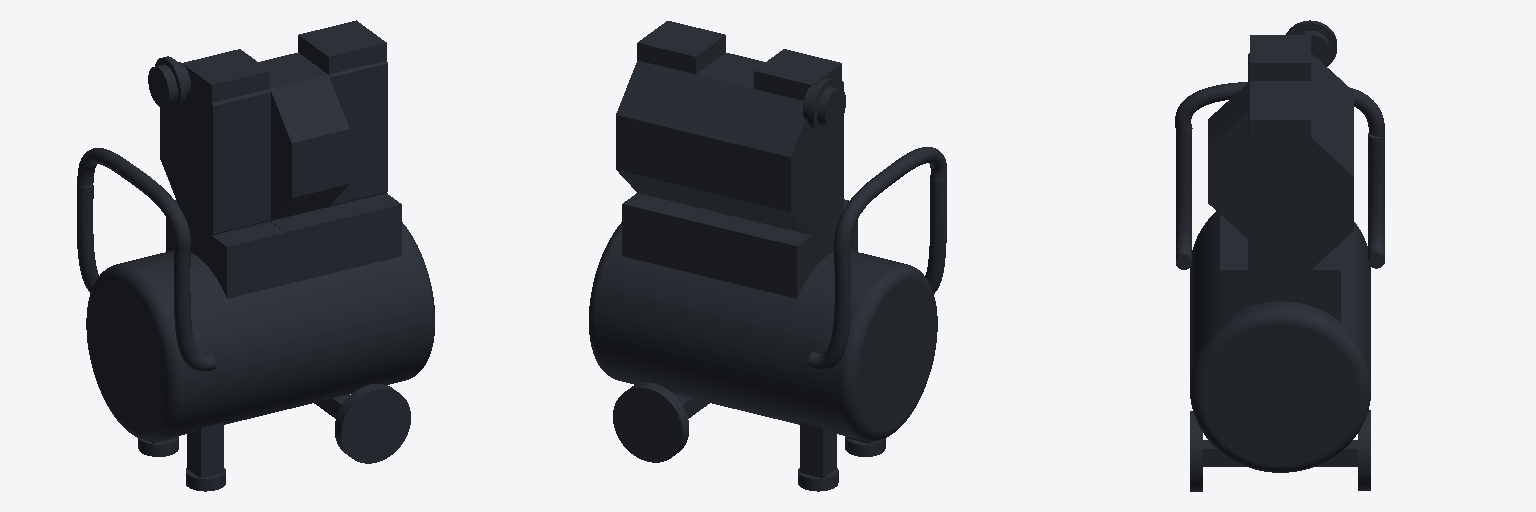
URDF robot description (air_compressor):
<?xml version="1.0"?>
<!--
  air_compressor.urdf
  바탕화면 air_compressor.step → 변환. 단일 바디(링크 1개).
  - 원본 STEP 단위 mm → 원본 BREP 스케일 변환이 일부 트림 커브에서 실패해
    (Geom_TrimmedCurve::parameters out of range) mm 단위로 먼저 테셀레이션 후
    정점만 m로 스케일하는 방식으로 우회 변환.
  - 원점: 모델 자체 기준점. XY는 거의 중심 정렬(x:-0.002~0.460, y:-0.157~0.155),
    Z는 바닥/중심 어디에도 안 맞음(z:-0.166~0.358)
  - 치수 0.4615 x 0.3126 x 0.5248 m (삼각형 8,670면)
  - 시각(visual): 원본 메쉬. 충돌(collision): 박스로 단순화(치수=메쉬 바운딩박스)
  - 정적 소품(스탠드 내부 거치)이므로 스폰 시 AssetOptions.fix_base_link=True 권장
-->
<robot name="air_compressor">

  <material name="compressor_dark"> <color rgba="0.20 0.22 0.25 1.0"/> </material>

  <link name="base_link">
    <inertial>
      <origin xyz="0.2293 -0.0009 0.0960"/>
      <mass value="15.0"/>
      <!-- 박스 관성 (m=15, 0.4615x0.3126x0.5248) -->
      <inertia ixx="0.4664" ixy="0" ixz="0" iyy="0.6105" iyz="0" izz="0.3884"/>
    </inertial>

    <visual>
      <origin xyz="0 0 0"/>
      <geometry><mesh filename="meshes/air_compressor.stl" scale="1 1 1"/></geometry>
      <material name="compressor_dark"/>
    </visual>

    <collision>
      <origin xyz="0.2293 -0.0009 0.0960"/>
      <geometry><box size="0.4615 0.3126 0.5248"/></geometry>
    </collision>
  </link>
</robot>

--- What the picture shows (computed from the rendered views, not written in the file) ---
3 views of the same robot in one strip: view 1: azimuth 30°, elevation 25°; view 2: azimuth 150°, elevation 25°; view 3: azimuth 270°, elevation 25° (orthographic).
Robot: air_compressor — 1 links, 0 joints (none); root link base_link; default pose: all joints at 0.
Links seen in each view (by area): view 1: base_link; view 2: base_link; view 3: base_link.
Link boxes in pixels (x1,y1,x2,y2): base_link: (77,20,434,491); base_link: (589,21,946,491); base_link: (1175,20,1384,491).
Size in the robot's own frame: 0.4618 by 0.3127 by 0.648 metres.
1 mesh visuals loaded from 1 distinct referenced files (1 binary STL).
